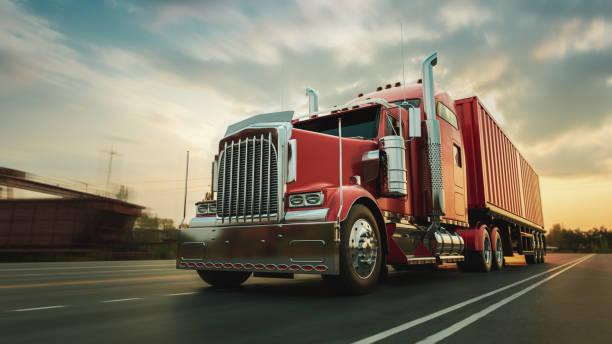truck: (177, 51, 547, 294)
